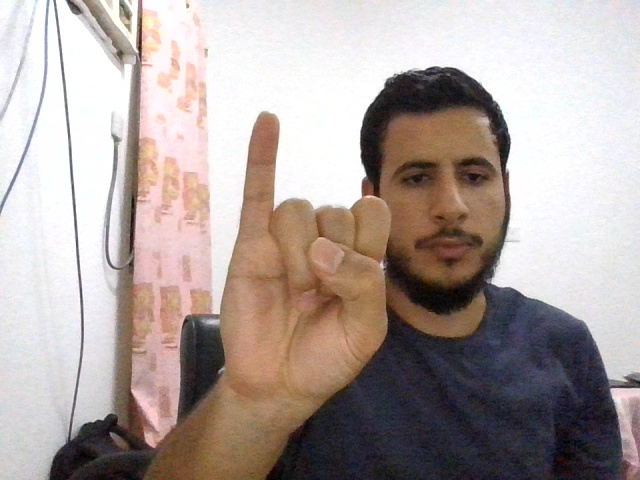One: (220, 113, 391, 395)
